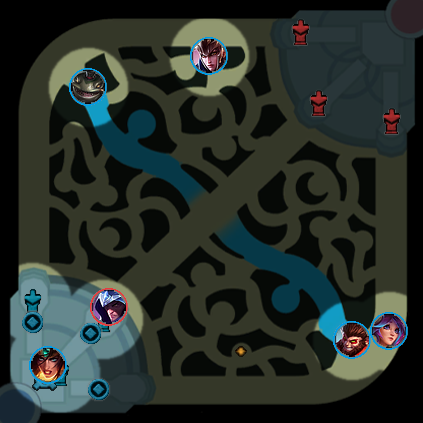Lillia: (370, 312, 408, 350)
MonkeyKing: (333, 321, 371, 359)
Quinn: (190, 37, 228, 75)
Sivir: (29, 346, 67, 384)
TahmKench: (69, 68, 107, 106)
Talon: (90, 288, 128, 326)
